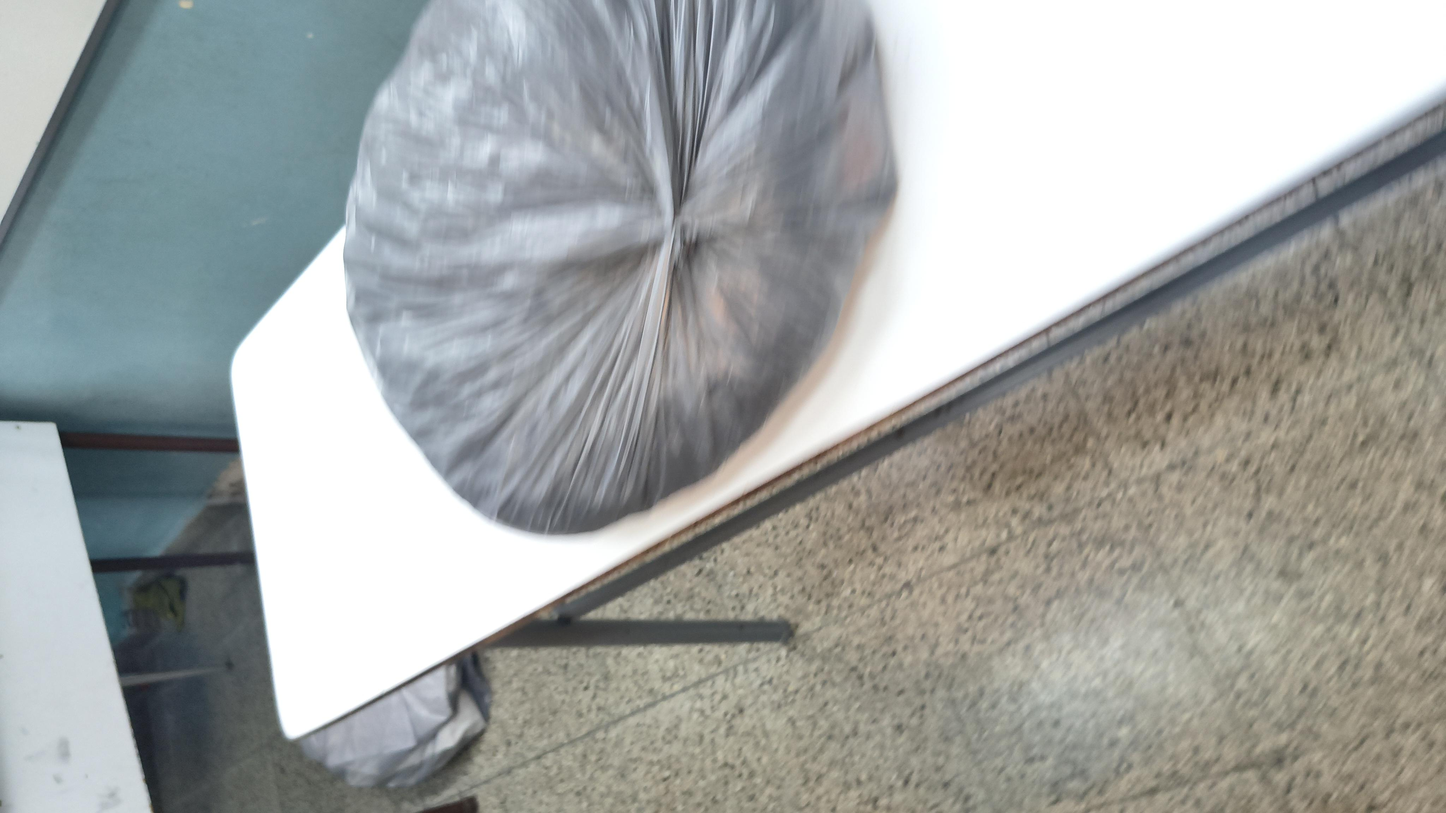Garbage: (408, 155, 1446, 536)
